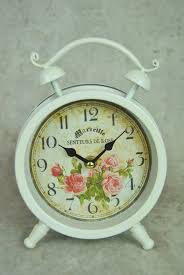alarm_clock: (13, 34, 167, 250), (23, 34, 167, 250)
